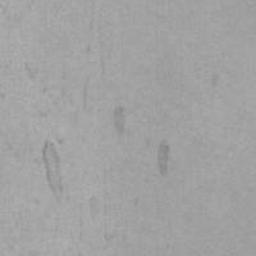Water spot: (41, 137, 65, 202), (156, 138, 173, 179), (111, 104, 127, 138)
